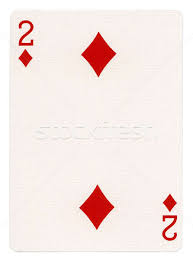two of diamonds: (10, 10, 183, 253)
